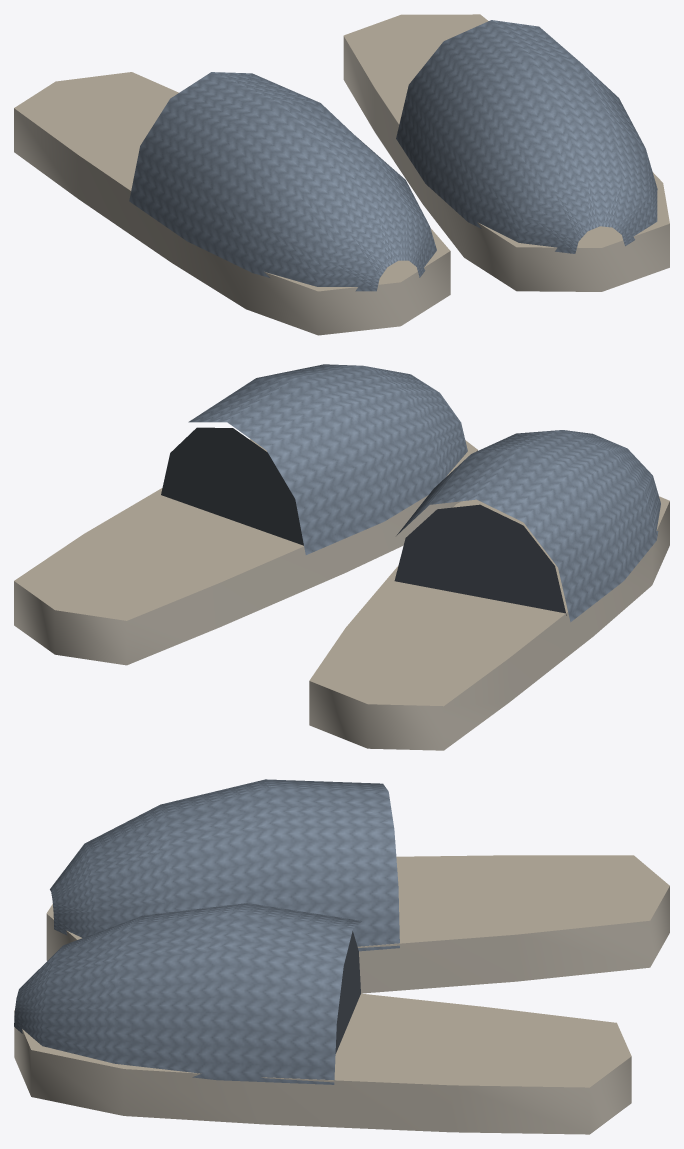
The model's file is slippers.glb.
3 views of the same model, one above another, from view 1: azimuth 30°, elevation 25°; view 2: azimuth 150°, elevation 25°; view 3: azimuth 270°, elevation 25° (orthographic). The views are drawn at different scales.
Visible parts, largest first — view 1: slippers; view 2: slippers; view 3: slippers.
Boxes of the visible parts, bbox=[...] form: slippers: bbox=[14, 14, 669, 335]; slippers: bbox=[14, 364, 669, 750]; slippers: bbox=[14, 779, 669, 1134].
Bounding box in the file's own units: 0.2358 × 0.076 × 0.2783.
Materials: 2 (1 with a texture image).
